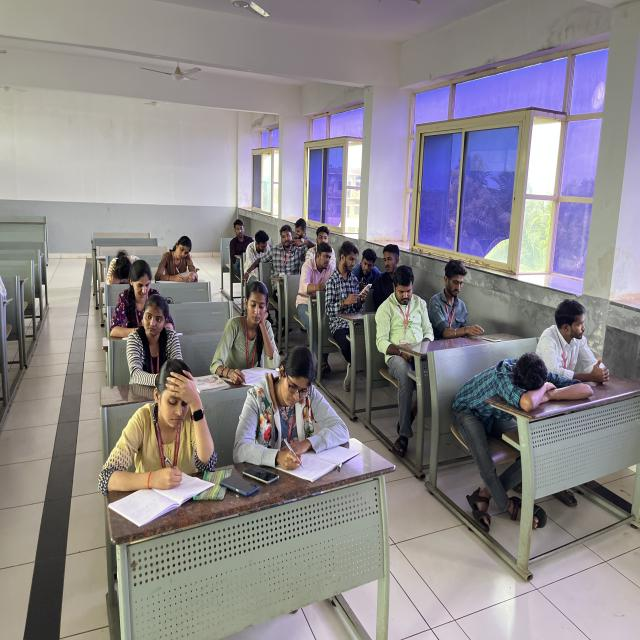Reading: (107, 263, 176, 338)
Sleeping: (445, 348, 598, 458), (103, 250, 148, 293)
Using Phone: (374, 264, 436, 370), (324, 235, 377, 340)
Writing: (97, 359, 223, 504), (223, 341, 352, 475), (206, 274, 286, 388), (152, 232, 203, 288)
